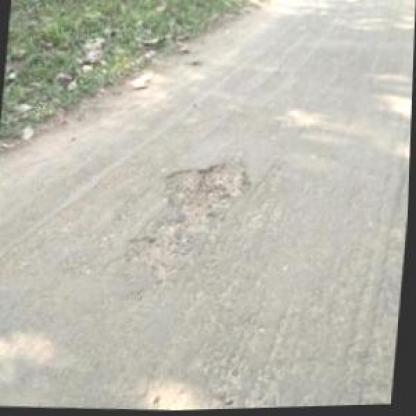pothole: (155, 155, 255, 222), (122, 215, 184, 280)
